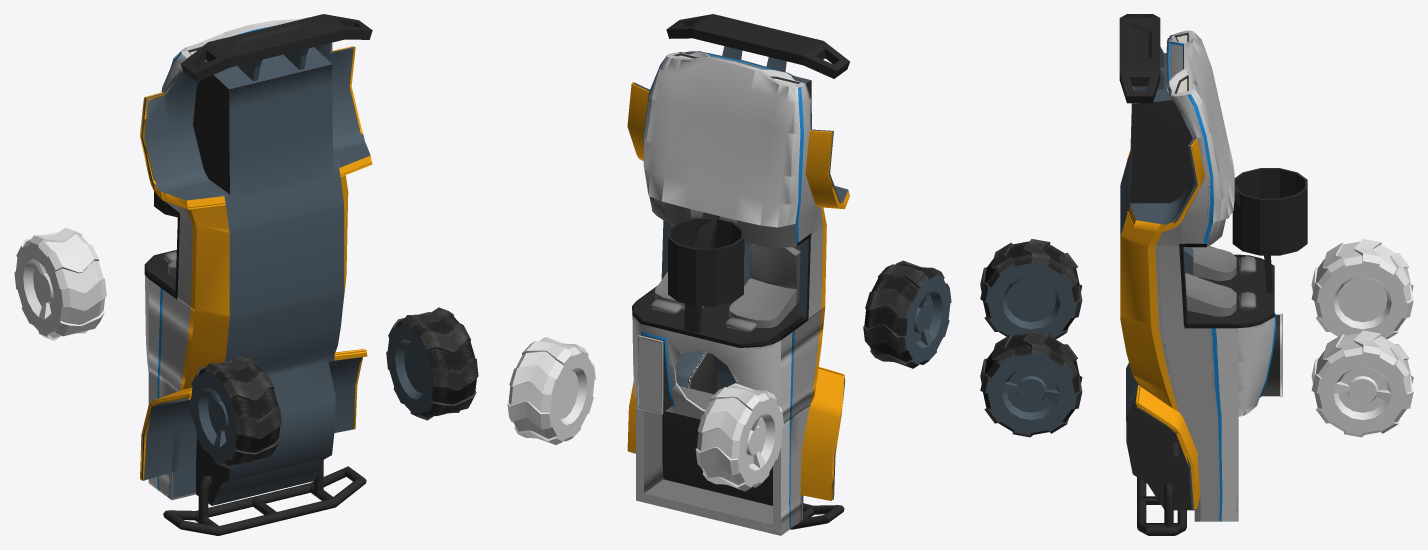
The model's file is AVBuggy_Destroyed.fbx.
3 views of the same model, side by side, from view 1: azimuth 30°, elevation 25°; view 2: azimuth 150°, elevation 25°; view 3: azimuth 270°, elevation 25° (orthographic). The views are drawn at different scales.
Parts seen in each view (by area): view 1: Bottom, RightSide, WheelFR, WheelRR, WheelFL, FrontBumper, RearBumper, LeftSide, Grill, DriveCompartment; view 2: Hood, RightSide, Rear, Top, WheelFR, WheelRR, WheelRL, DriveCompartment, TurretMount, FrontBumper, PassengerSeat, Bottom (+5 smaller); view 3: LeftSide, Bottom, WheelFL, WheelRL, WheelFR, WheelRR, TurretMount, Top, FrontBumper, DriveCompartment, Hood, DriverSeat (+3 smaller).
Part boxes in pixels (left/top/right/bottom): Bottom: left=141, top=43, right=370, bottom=505; RightSide: left=140, top=50, right=229, bottom=499; WheelFR: left=189, top=355, right=281, bottom=468; WheelRR: left=14, top=227, right=106, bottom=340; WheelFL: left=386, top=307, right=478, bottom=420; FrontBumper: left=180, top=14, right=372, bottom=81; RearBumper: left=163, top=461, right=366, bottom=535; LeftSide: left=330, top=42, right=372, bottom=429; Grill: left=181, top=17, right=308, bottom=61; DriveCompartment: left=144, top=204, right=176, bottom=294; Hood: left=644, top=57, right=794, bottom=227; RightSide: left=780, top=83, right=849, bottom=535; Rear: left=636, top=386, right=802, bottom=535; Top: left=632, top=302, right=780, bottom=419; WheelFR: left=863, top=260, right=951, bottom=368; WheelRR: left=695, top=383, right=783, bottom=491; WheelRL: left=507, top=337, right=595, bottom=444; DriveCompartment: left=632, top=196, right=808, bottom=346; TurretMount: left=668, top=217, right=743, bottom=306; FrontBumper: left=666, top=14, right=849, bottom=78; PassengerSeat: left=725, top=244, right=800, bottom=332; Bottom: left=632, top=51, right=847, bottom=520; LeftSide: left=1120, top=93, right=1238, bottom=521; Bottom: left=1120, top=35, right=1197, bottom=521; WheelFL: left=980, top=330, right=1082, bottom=437; WheelRL: left=1311, top=330, right=1413, bottom=437; WheelFR: left=980, top=239, right=1082, bottom=339; WheelRR: left=1311, top=239, right=1413, bottom=339; TurretMount: left=1232, top=168, right=1307, bottom=255; Top: left=1238, top=254, right=1282, bottom=416; FrontBumper: left=1119, top=14, right=1164, bottom=103; DriveCompartment: left=1183, top=219, right=1274, bottom=326; Hood: left=1192, top=33, right=1234, bottom=220; DriverSeat: left=1185, top=273, right=1256, bottom=316.
Bounding box in the file's own units: 317 × 612 × 523.
Materials: 1 (1 with a texture image).
